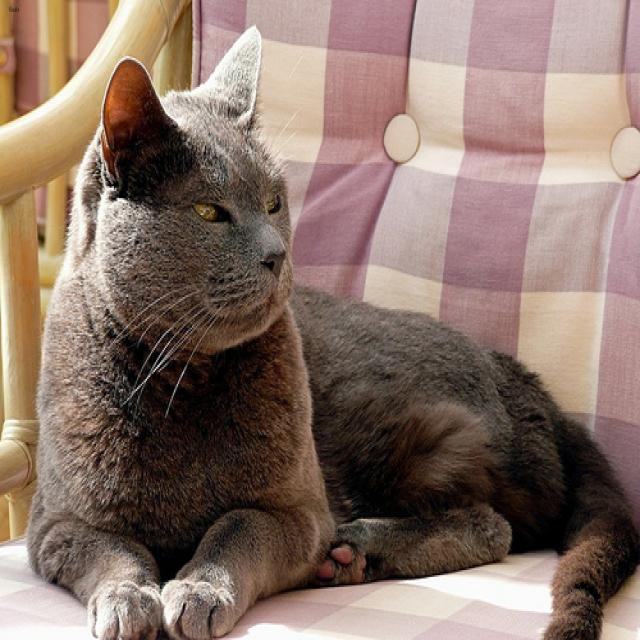Russian_Blue: (100, 22, 290, 345)
